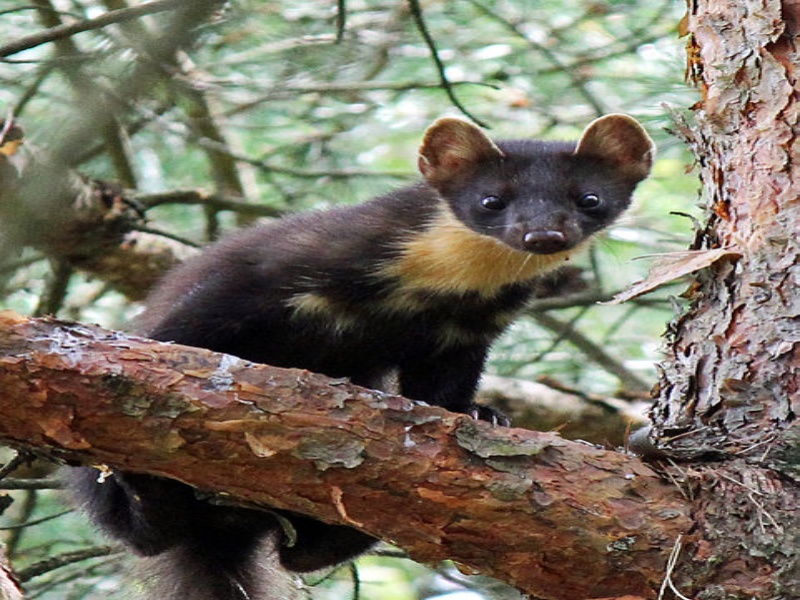minkish: (70, 108, 659, 571)
